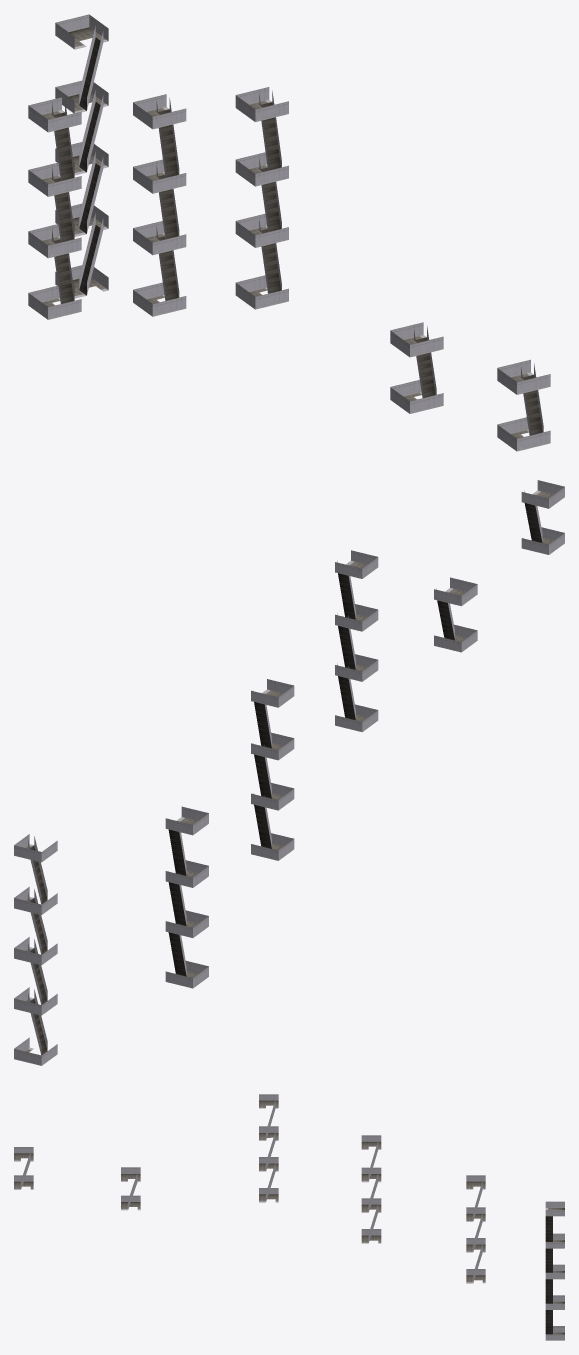
File: fescape_sfw09.obj
The picture shows the model from 3 angles, top to bottom: view 1: azimuth 30°, elevation 25°; view 2: azimuth 150°, elevation 25°; view 3: azimuth 270°, elevation 25°; orthographic projection. The views are drawn at different scales.
Parts seen in each view (by area): view 1: fescape_sfw09; view 2: fescape_sfw09; view 3: fescape_sfw09.
Boxes of the visible parts, x1,y1,x2,y2 form: fescape_sfw09: (28, 14, 550, 451); fescape_sfw09: (14, 480, 564, 1065); fescape_sfw09: (14, 1094, 564, 1340).
Bounding box in the file's own units: 14.15 × 41.03 × 96.45.
Materials: 1 (1 with a texture image).
